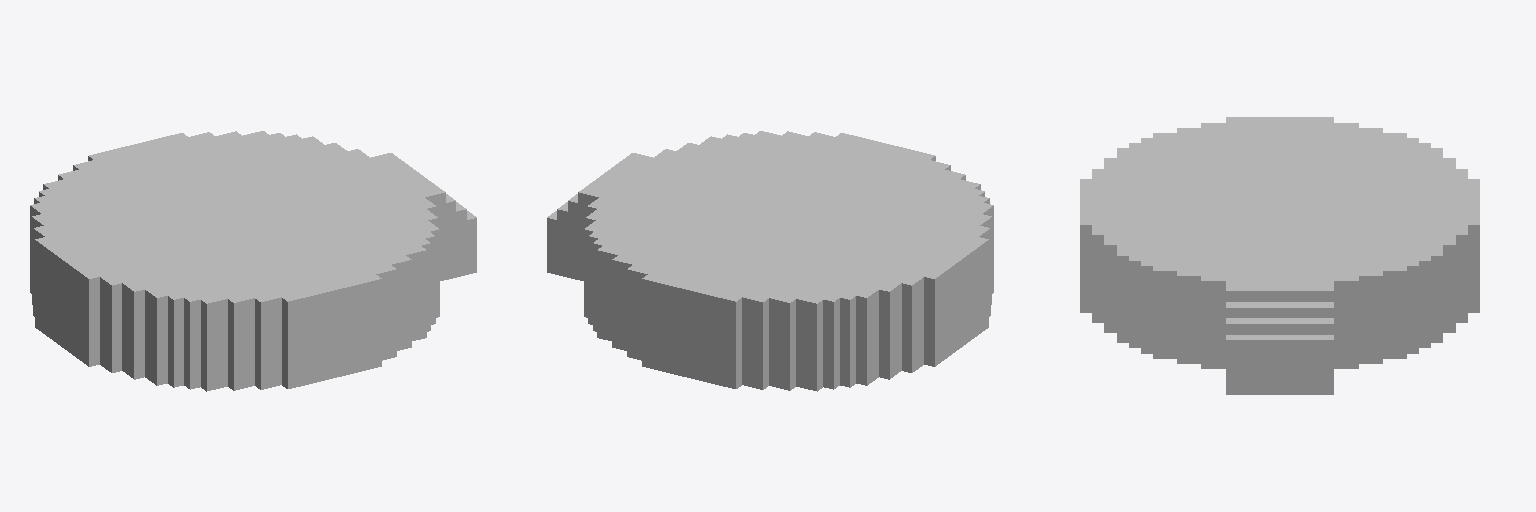
File: lostburg_boss.obj
The picture shows the model from 3 angles: view 1: azimuth 30°, elevation 25°; view 2: azimuth 150°, elevation 25°; view 3: azimuth 270°, elevation 25°; orthographic projection.
Parts seen in each view (by area): view 1: Untitled; view 2: Untitled; view 3: Untitled.
Part boxes in pixels (x1,y1,x2,y2): Untitled: (30,131,476,391); Untitled: (547,131,993,391); Untitled: (1080,117,1479,394).
Size of the model in its own units: 3.7 by 0.8 by 3.3.